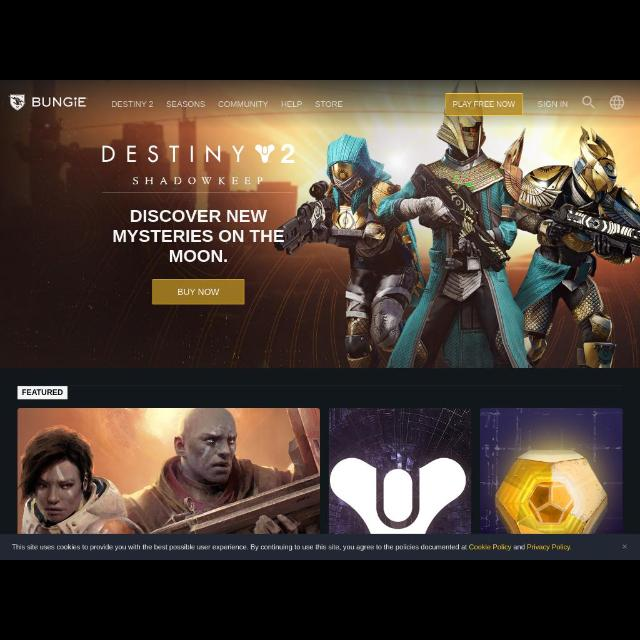backgroundimage: (1, 81, 639, 369)
icon: (610, 95, 624, 109), (582, 95, 594, 109), (622, 544, 628, 548)
image: (18, 408, 320, 534), (330, 408, 472, 534), (481, 408, 622, 534), (9, 92, 89, 110)
link: (468, 542, 512, 552), (527, 543, 571, 553)
multitab: (106, 93, 348, 113)
text: (110, 208, 286, 266), (12, 542, 574, 554), (110, 98, 154, 112), (219, 100, 269, 110), (164, 100, 206, 110), (22, 388, 64, 398), (538, 99, 568, 111), (313, 100, 343, 108), (280, 101, 304, 109)
textbutton: (97, 134, 299, 193), (152, 278, 246, 306), (446, 92, 522, 116)
